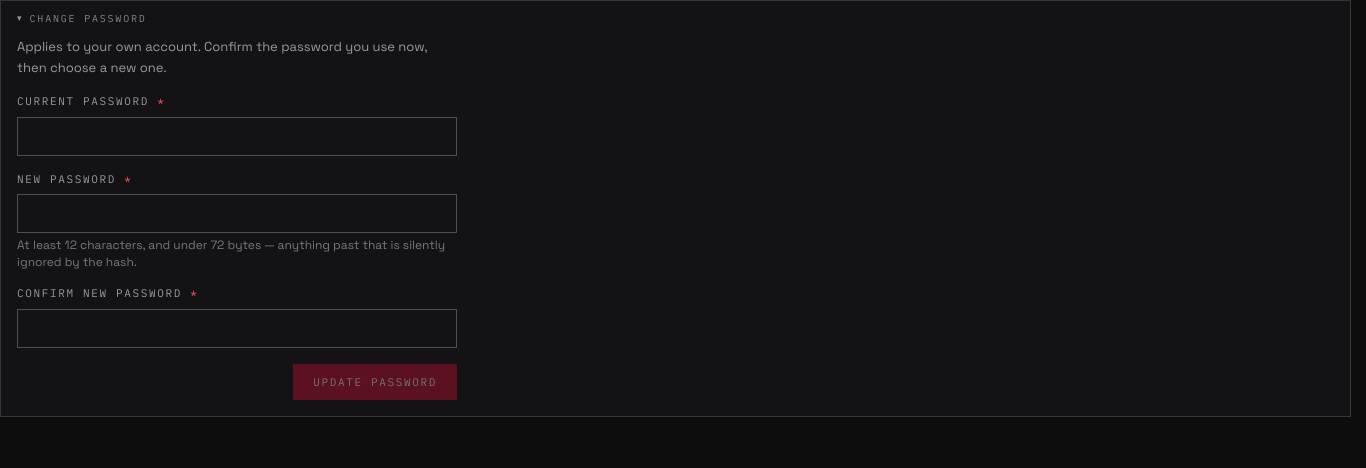
the submit gate › stays disabled until the current password is given
Type "correct horse battery staple" into the password field labelled "New password *" at (237, 214), box [17,194,457,233]
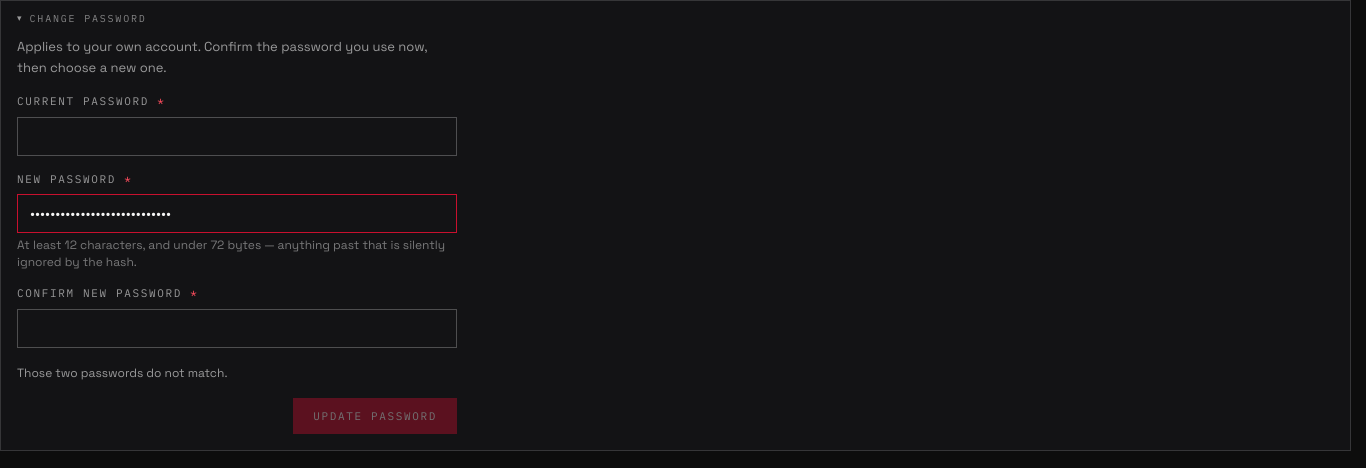
Type "correct horse battery staple" into the password field labelled "Confirm new password *" at (237, 328), box [17,309,457,348]
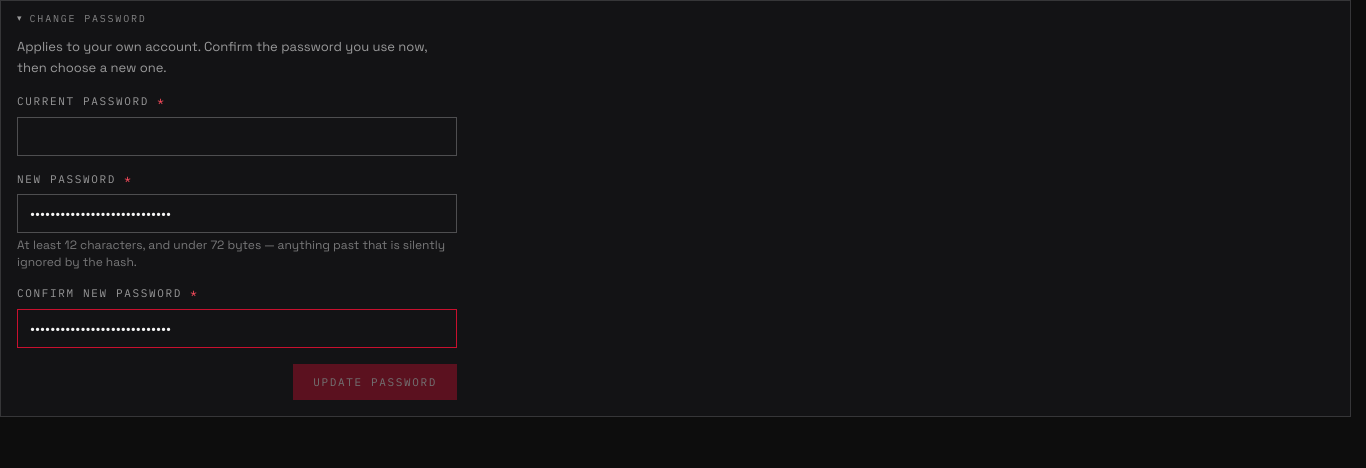
Expected: the button "Update password" is disabled, [293,364,457,400]
Type "whatever they use now" into the password field labelled "Current password *" at (237, 136), box [17,117,457,156]
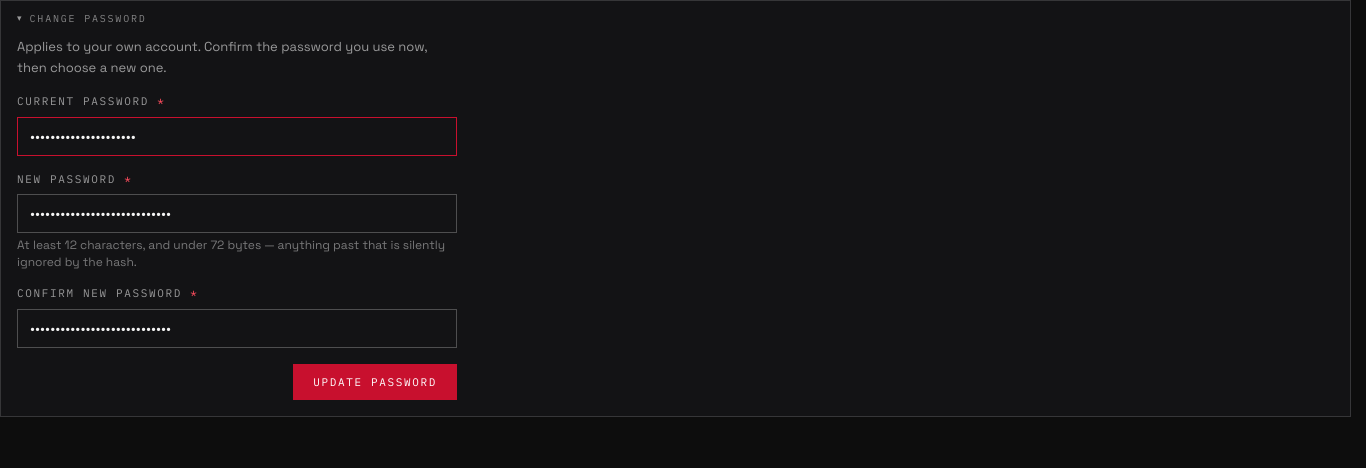
Result: the button "Update password" is enabled at [293,364,457,400]
